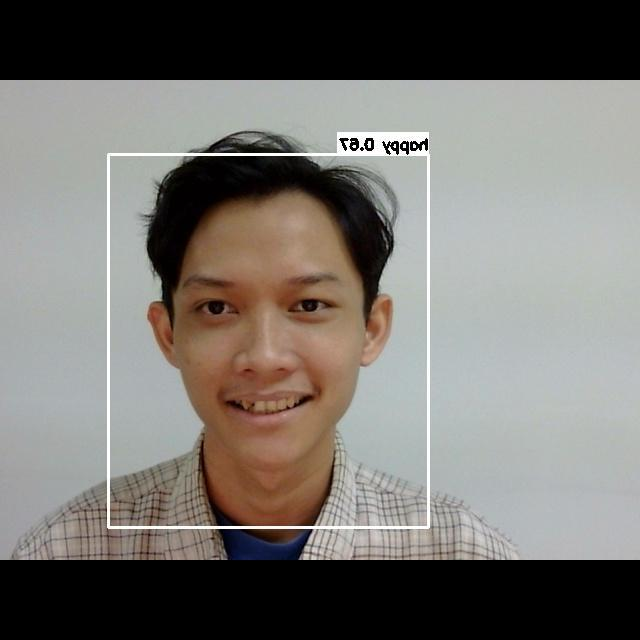Happy: (159, 244, 374, 446)
